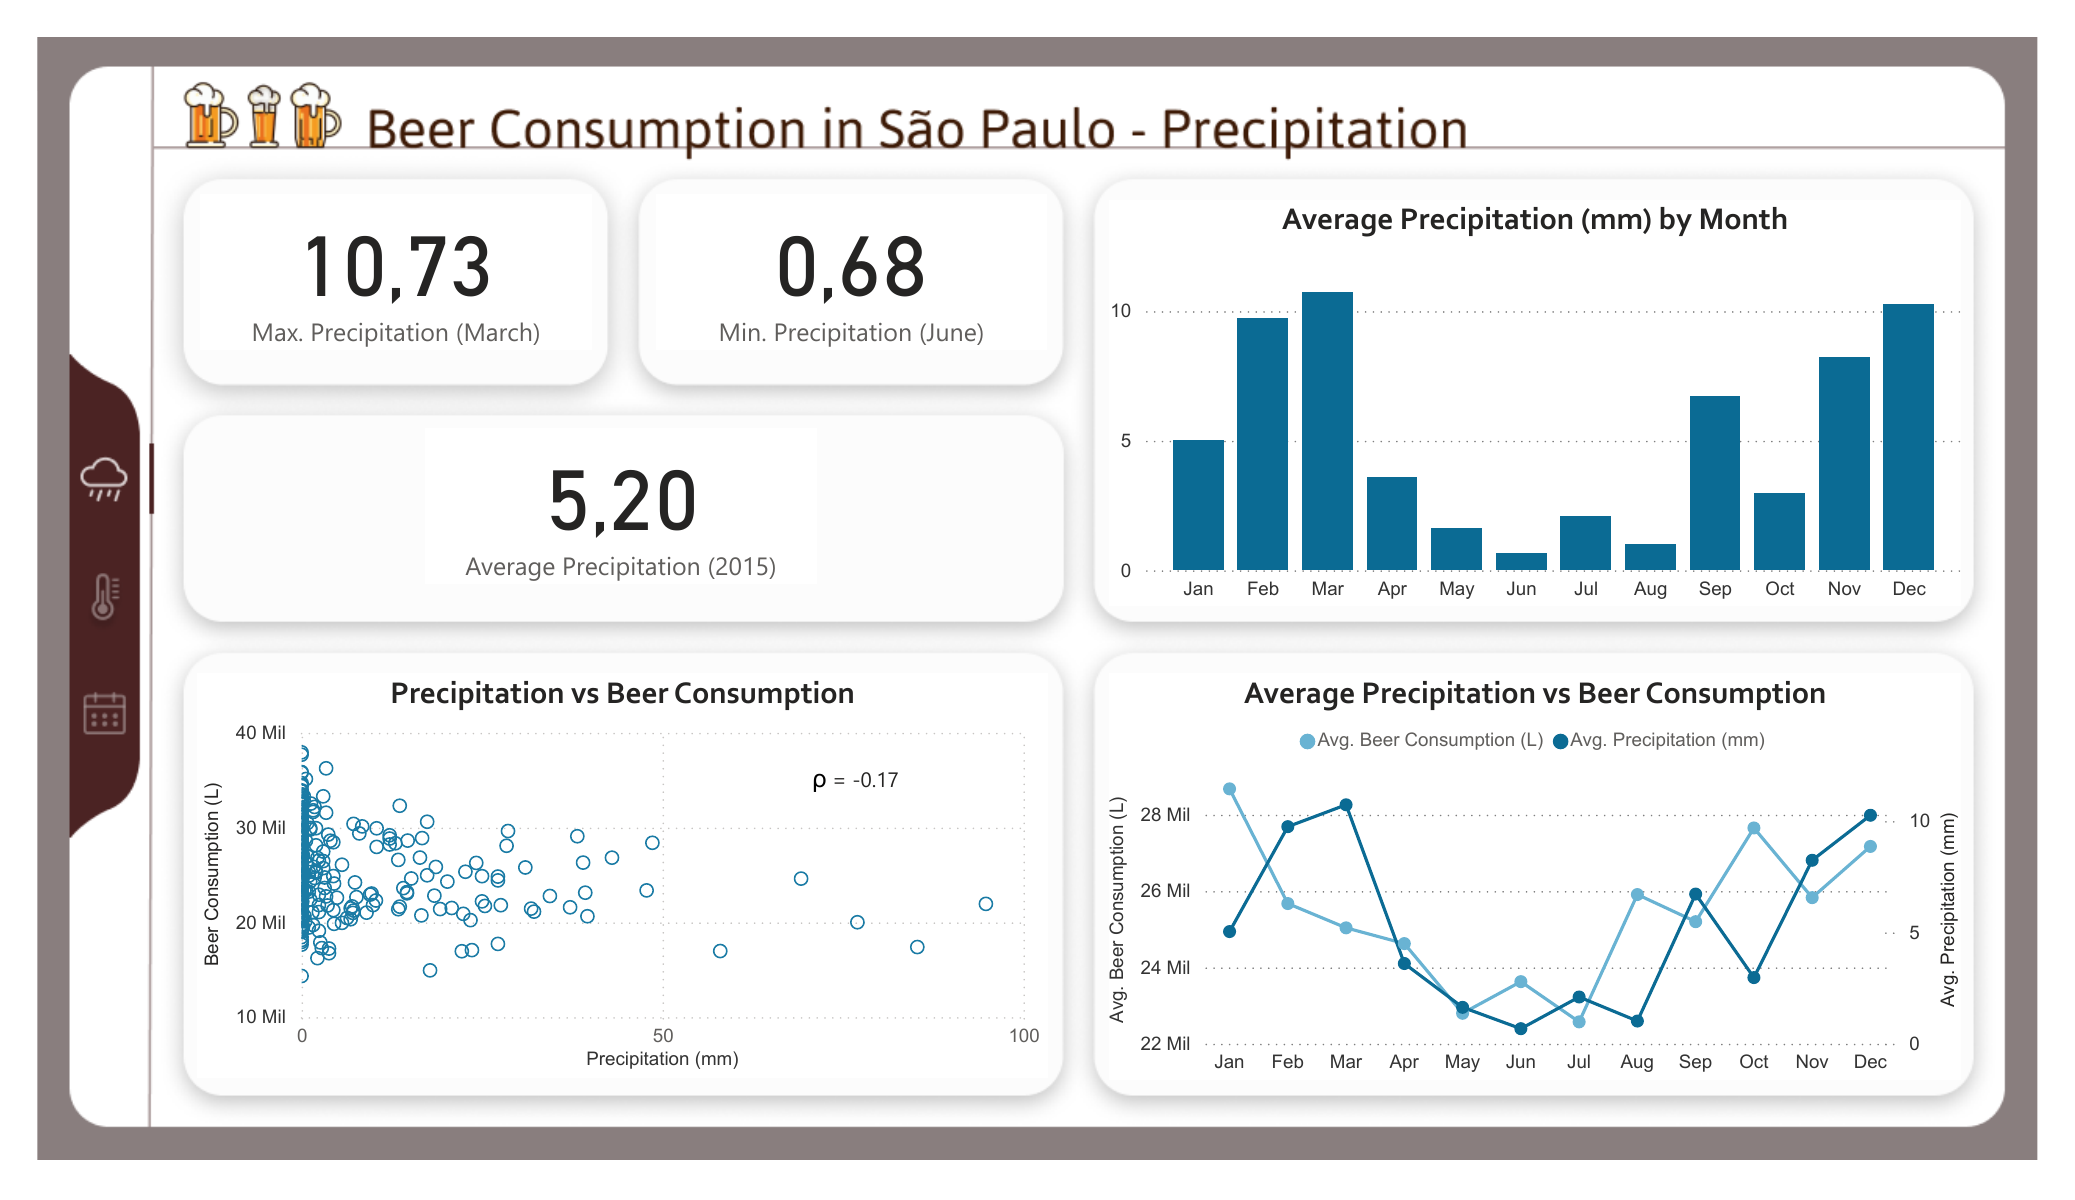

The page's visual inventory and layout, read from the dashboard file:
{"tool":"powerbi","page":{"name":"Precipitation","canvas":[1280,720],"ordinal":0},"visuals":[{"type":"clusteredColumnChart","title":"Average Precipitation (mm) by Month","fields":{"Y":["Avg(SP - Consumo de Cerveja.Precipitacao (mm))"],"Category":["SP - Consumo de Cerveja.Month"]},"box":[685.8,103.6,545.3,260],"z":0},{"type":"lineChart","title":"Average Precipitation vs Beer Consumption","fields":{"Y":["Avg(SP - Consumo de Cerveja.Beer Consumption (L))"],"Category":["SP - Consumo de Cerveja.Month"],"Y2":["Avg(SP - Consumo de Cerveja.Precipitation (mm))"]},"box":[685.8,407.4,545.3,260],"z":1000},{"type":"card","fields":{"Values":["_Metrics.Max_Precip_Month"]},"box":[104.5,100.1,250.2,100],"z":2000},{"type":"card","fields":{"Values":["_Metrics.Min_Precip_Month"]},"box":[396,100,250.2,100],"z":3000},{"type":"card","fields":{"Values":["_Metrics.AVG_Precip_Year"]},"box":[248.5,250,250.2,100],"z":4000},{"type":"scatterChart","title":"Precipitation vs Beer Consumption","fields":{"Y":["SP - Consumo de Cerveja.Beer Consumption (L)"],"X":["SP - Consumo de Cerveja.Precipitation (mm)"]},"box":[101.9,406.5,545.3,259.9],"z":5000},{"type":"textbox","box":[491.2,461,87.5,31.1],"z":6000},{"type":"actionButton","box":[21.1,338,44.8,40.4],"z":7000},{"type":"actionButton","box":[21.1,413.6,44.8,40.4],"z":8000}]}

Visuals, with their boxes on the page's 1280x720 design canvas (x1, y1, x2, y2). These are canvas units, not pixel positions in the 2075x1200 screenshot, which may show the page scaled, cropped or inside an application window:
"Average Precipitation (mm) by Month" clusteredColumnChart: 686, 104, 1231, 364
"Average Precipitation vs Beer Consumption" lineChart: 686, 407, 1231, 667
card - _Metrics.Max_Precip_Month: 104, 100, 355, 200
card - _Metrics.Min_Precip_Month: 396, 100, 646, 200
card - _Metrics.AVG_Precip_Year: 248, 250, 499, 350
"Precipitation vs Beer Consumption" scatterChart: 102, 406, 647, 666
textbox: 491, 461, 579, 492
actionButton: 21, 338, 66, 378
actionButton: 21, 414, 66, 454
